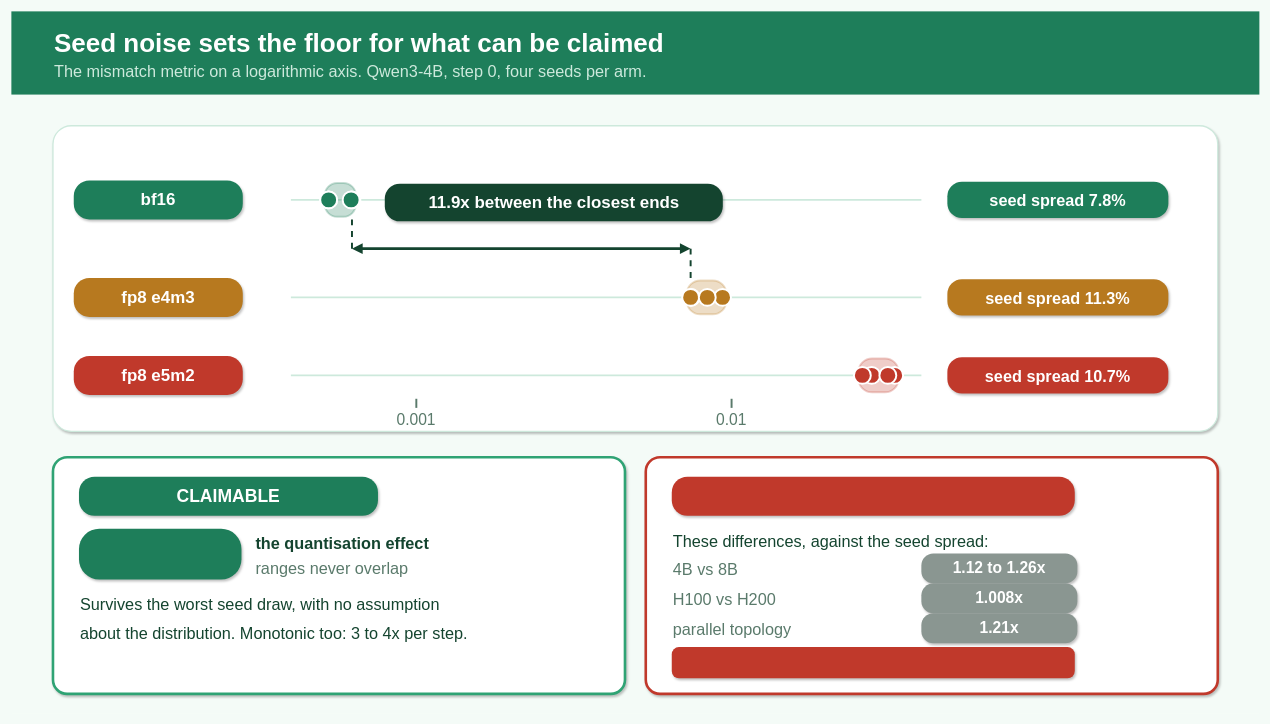
This 1270x724 diagram has some shape labels left out. Each missing label, with the centre of its shape:
"10 to 50x" belongs at point 160,555.
"NOT CLAIMABLE inside the noise" belongs at point 873,497.
"seed spread alone: 1.19 to 1.27x" belongs at point 873,663.
